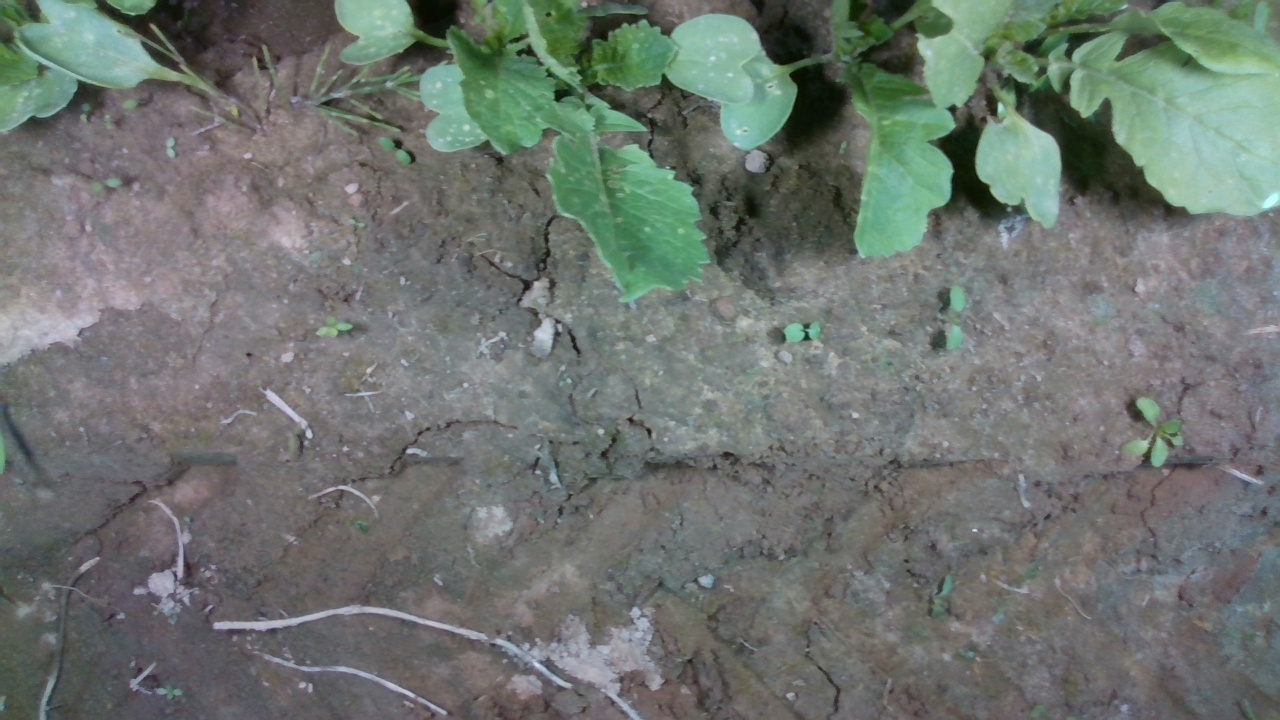weed: (942, 283, 969, 352), (313, 309, 354, 341), (778, 318, 824, 344), (376, 135, 412, 168), (162, 134, 177, 161)
